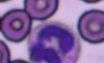N: (27, 22, 80, 63)
